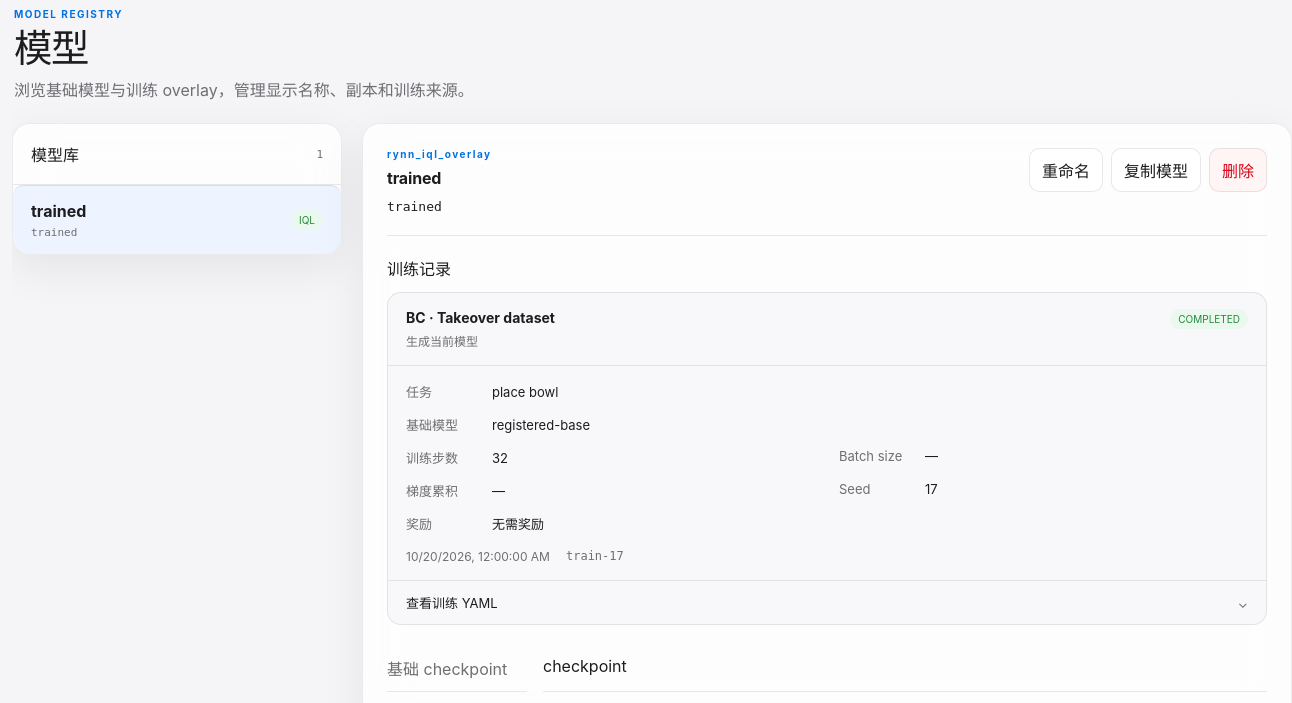
Test case: shows readable training history and opens its exact effective YAML
The image size is (1292, 703).
Expected: the text "BC · Takeover dataset" is shown, [406,310,555,326]
Expected: the text "32" is shown, [492,450,508,466]
Click the button "查看训练 YAML ⌄" at point(452, 603), box [388,580,1266,624]
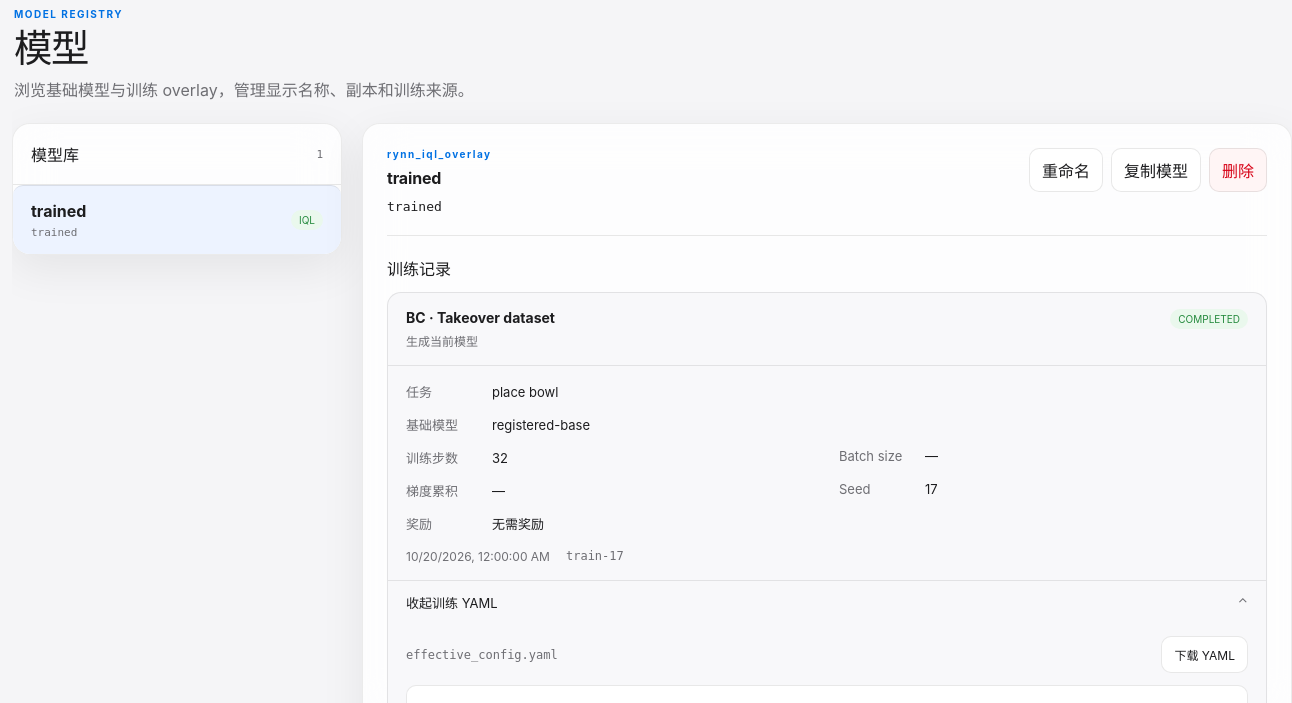
Expected: the text "effective_config.yaml" is shown, [406,648,558,662]
Expected: the button "下载 YAML" is shown, [1162,636,1248,674]
